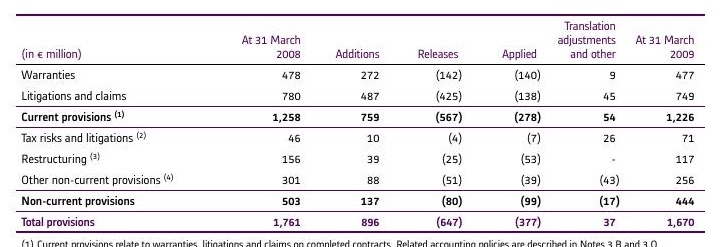table: (0, 0, 722, 247)
